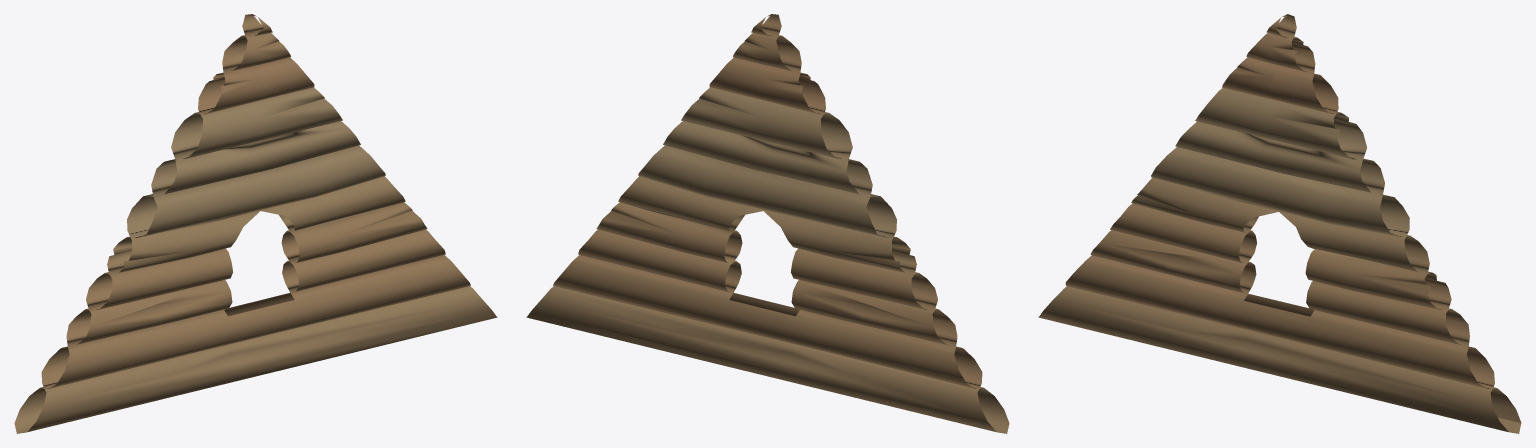
File: rpgpp_ag_roof_end_01_6x5_wall_window_01c.fbx
3 renders of one model, left to right at view 1: azimuth 30°, elevation 25°; view 2: azimuth 150°, elevation 25°; view 3: azimuth 330°, elevation 25°, orthographic.
Parts seen in each view (by area): view 1: rpgpp_ag_roof_end_01_6x5_wall_window_01c; view 2: rpgpp_ag_roof_end_01_6x5_wall_window_01c; view 3: rpgpp_ag_roof_end_01_6x5_wall_window_01c.
Part boxes in pixels (x1,y1,x2,y2): rpgpp_ag_roof_end_01_6x5_wall_window_01c: (14, 14, 497, 433); rpgpp_ag_roof_end_01_6x5_wall_window_01c: (526, 14, 1009, 433); rpgpp_ag_roof_end_01_6x5_wall_window_01c: (1038, 14, 1521, 433).
Bounding box in the file's own units: 6.35 × 4.56 × 0.5143.
